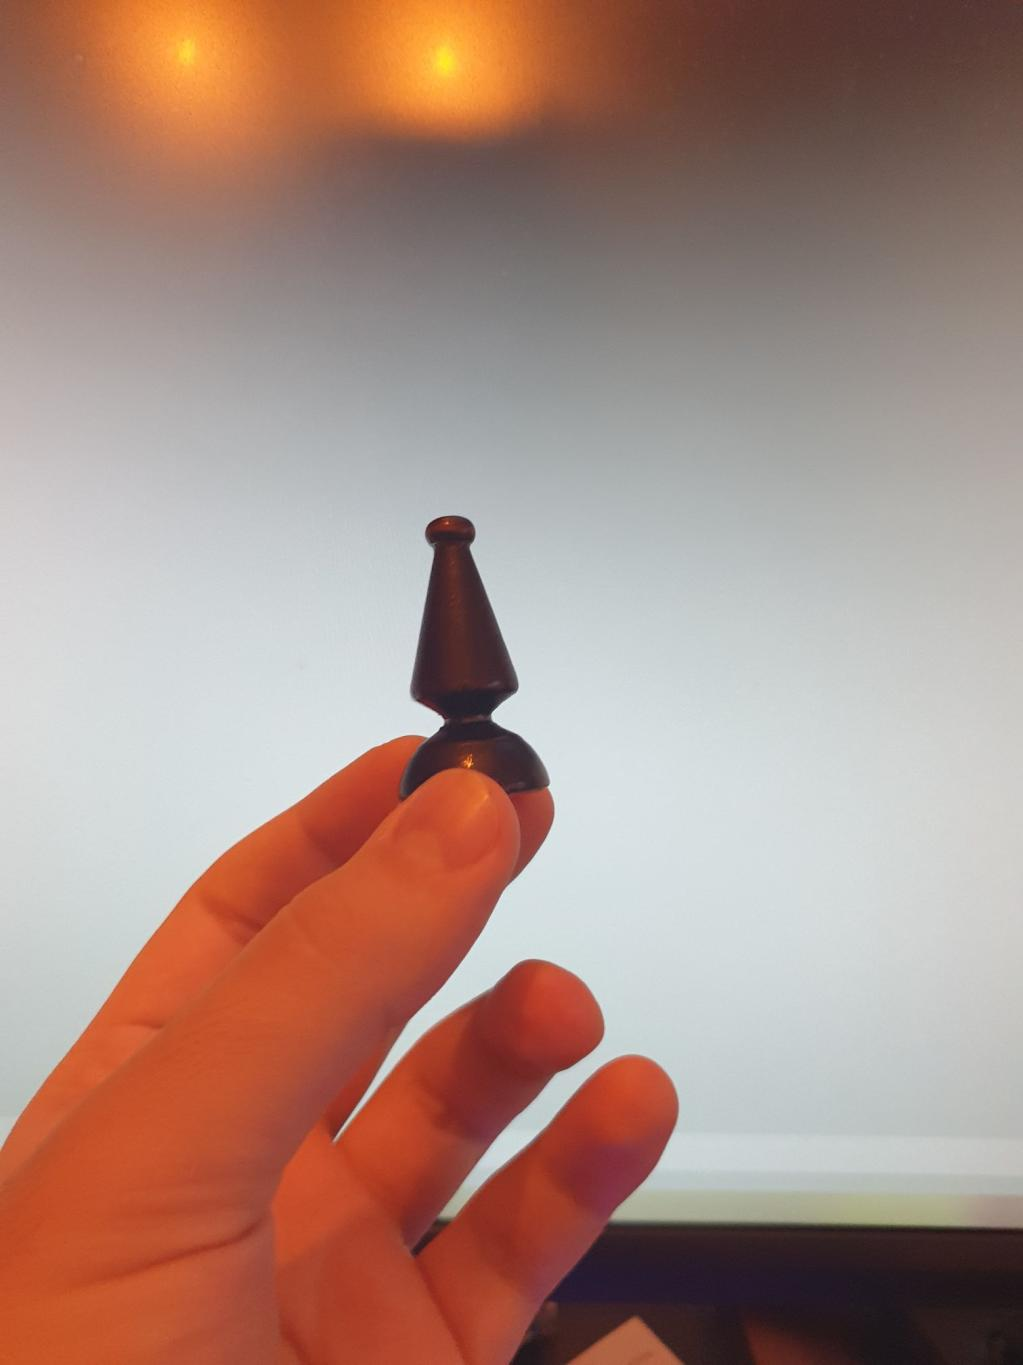bbishop: (397, 515, 549, 802)
